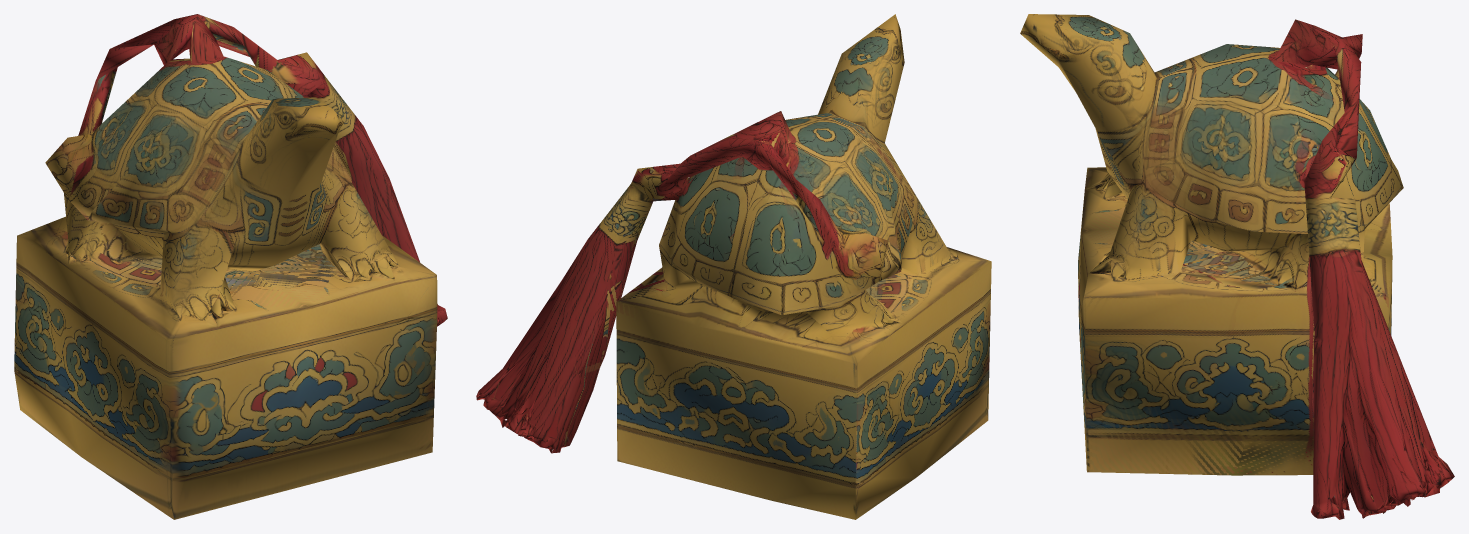
Rendered from PR_Eobo.fbx.
The picture shows the model from 3 angles, left to right: view 1: azimuth 30°, elevation 25°; view 2: azimuth 150°, elevation 25°; view 3: azimuth 270°, elevation 25°; orthographic projection. The views are drawn at different scales.
Parts seen in each view (by area): view 1: texture_mapping; view 2: texture_mapping; view 3: texture_mapping.
Part boxes in pixels (bbox=[...]): texture_mapping: bbox=[14, 14, 447, 519]; texture_mapping: bbox=[476, 14, 991, 519]; texture_mapping: bbox=[1020, 14, 1454, 519].
Size of the model in its own units: 0.9801 by 0.8915 by 0.912.
Materials: 1 (1 with a texture image).
